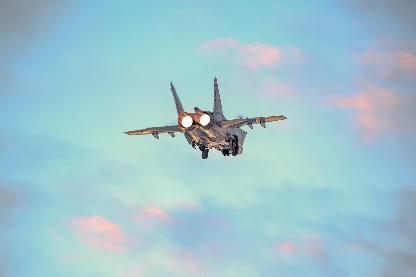Mig31: (124, 75, 286, 158)
